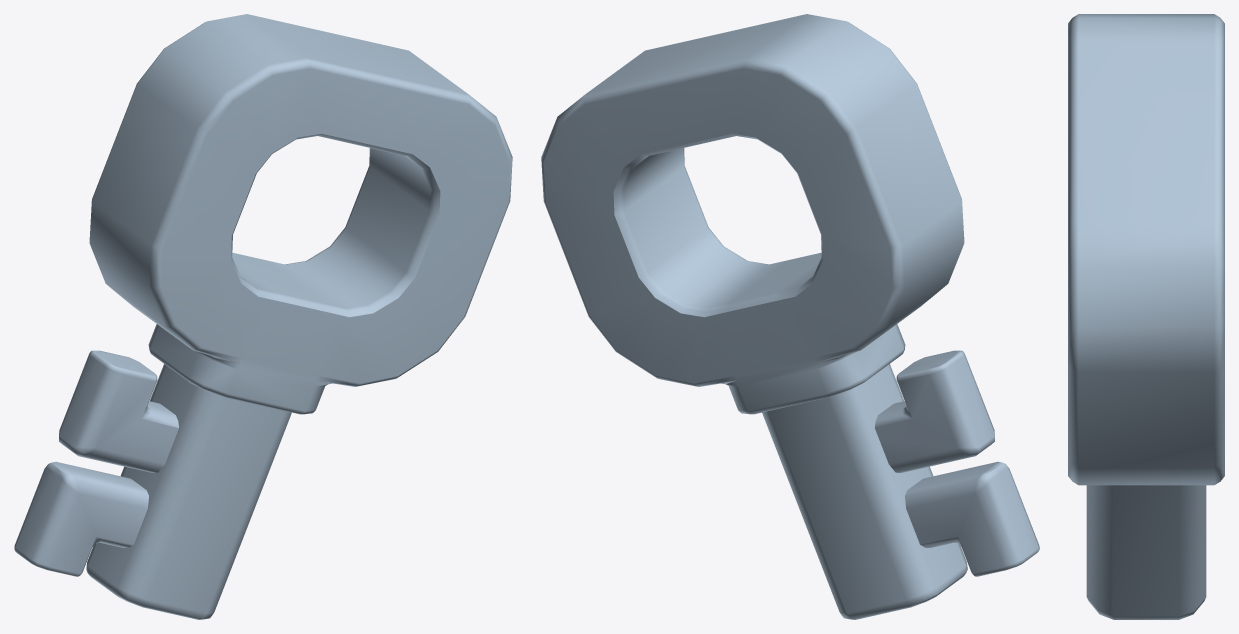
3 renders of one model, left to right at view 1: azimuth 30°, elevation 25°; view 2: azimuth 150°, elevation 25°; view 3: azimuth 270°, elevation 25°, orthographic. The views are drawn at different scales.
Visible parts, largest first — view 1: model_0.085; view 2: model_0.085; view 3: model_0.085.
Part boxes in pixels (x1,y1,x2,y2): model_0.085: (14, 14, 512, 619); model_0.085: (541, 14, 1039, 619); model_0.085: (1068, 14, 1224, 619).
Bounding box in the file's own units: 3.57 × 4.09 × 0.9279.
